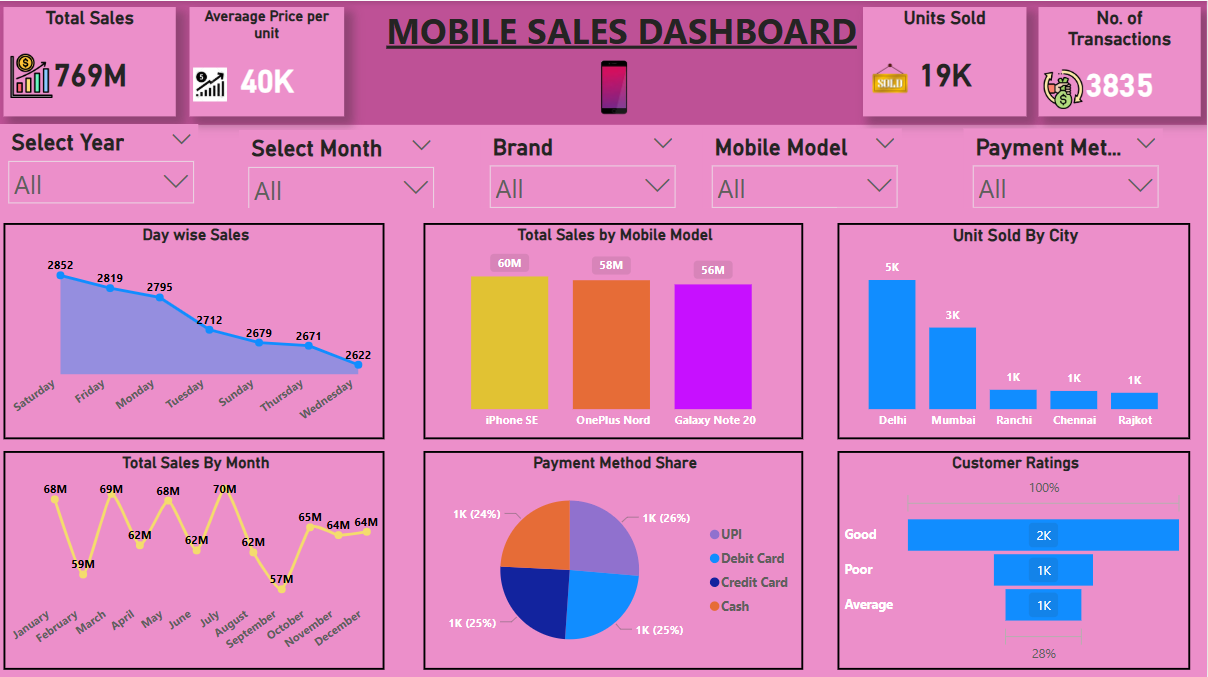

The dashboard page shown, as its layout file describes it:
{"tool":"powerbi","page":{"name":"DASHBOARD","canvas":[1280,720],"ordinal":0},"visuals":[{"type":"textbox","box":[0,0,1280.4,131],"z":0},{"type":"card","title":"Total Sales","fields":{"Values":["Sum(mobile sales data.total_sales)"]},"box":[4,6.4,182.9,116.1],"z":1000},{"type":"card","title":"Units Sold","fields":{"Values":["Sum(mobile sales data.Units Sold)"]},"box":[916.2,6.4,173.4,116.1],"z":2000},{"type":"card","title":"No. of Transactions","fields":{"Values":["CountNonNull(mobile sales data.Transaction ID)"]},"box":[1102.3,6.4,171.8,116.1],"z":3000},{"type":"card","title":"Averaage Price per unit","fields":{"Values":["Avg(mobile sales data.Price Per Unit)"]},"box":[202,6.4,163.8,116.1],"z":4000},{"type":"image","box":[4.8,47.7,58.9,63.6],"z":5000},{"type":"image","box":[916.2,52.5,57.3,58.9],"z":6000},{"type":"image","box":[1102.3,65.2,52.5,57.3],"z":7000},{"type":"image","box":[192.5,65.2,62,46.1],"z":8000},{"type":"slicer","fields":{"Values":["Query1.date.Variation.Date Hierarchy.Year"]},"box":[0,130.4,211.6,93.8],"z":9000},{"type":"slicer","fields":{"Values":["Query1.date.Variation.Date Hierarchy.Month"]},"box":[254.5,136.8,211.6,82.7],"z":10000},{"type":"slicer","fields":{"Values":["mobile sales data.Brand"]},"box":[511.4,135.2,211.6,84.3],"z":11000},{"type":"slicer","fields":{"Values":["mobile sales data.Payment Method"]},"box":[1022.8,135.2,211.6,84.3],"z":12000},{"type":"slicer","fields":{"Values":["mobile sales data.Mobile Model"]},"box":[746,135.2,211.6,84.3],"z":13000},{"type":"lineChart","title":"Day wise Sales","fields":{"Category":["Query1.Day Name"],"Y":["Sum(mobile sales data.Units Sold)"]},"box":[4.8,235.4,404,229],"z":14000},{"type":"columnChart","title":"Total Sales by Mobile Model","fields":{"Category":["mobile sales data.Mobile Model"],"Y":["Sum(mobile sales data.total_sales)"]},"box":[450.1,235.4,402.4,229],"z":15000},{"type":"columnChart","title":"Unit Sold By City","fields":{"Category":["mobile sales data.City"],"Y":["Sum(mobile sales data.Units Sold)"]},"box":[889.2,235.4,373.8,229],"z":16000},{"type":"lineChart","title":"Total Sales By Month","fields":{"Category":["Query1.date.Variation.Date Hierarchy.Month"],"Y":["Sum(mobile sales data.total_sales)"]},"box":[4.8,477.2,404,232.2],"z":17000},{"type":"pieChart","title":"Payment Method Share","fields":{"Category":["mobile sales data.Payment Method"],"Y":["mobile sales data.transactions"]},"box":[450.1,477.2,402.4,232.2],"z":18000},{"type":"funnel","title":"Customer Ratings","fields":{"Category":["mobile sales data.rating_staus"],"Y":["CountNonNull(mobile sales data.Customer Ratings)"]},"box":[889.2,477.2,373.8,232.2],"z":19000},{"type":"image","box":[502.6,57.3,299,68.4],"z":20000}]}

Visuals, with their boxes in screenshot pixels (x1, y1, x2, y2), scaled from the page's 1280x720 canvas onto the 1208x677 screenshot:
textbox: crop(0, 0, 1207, 123)
"Total Sales" card: crop(4, 6, 176, 115)
"Units Sold" card: crop(865, 6, 1028, 115)
"No. of Transactions" card: crop(1040, 6, 1202, 115)
"Averaage Price per unit" card: crop(191, 6, 345, 115)
image: crop(5, 45, 60, 105)
image: crop(865, 49, 919, 105)
image: crop(1040, 61, 1090, 115)
image: crop(182, 61, 240, 105)
slicer - Query1.date.Variation.Date Hierarchy.Year: crop(0, 123, 200, 211)
slicer - Query1.date.Variation.Date Hierarchy.Month: crop(240, 129, 440, 206)
slicer - mobile sales data.Brand: crop(483, 127, 682, 206)
slicer - mobile sales data.Payment Method: crop(965, 127, 1165, 206)
slicer - mobile sales data.Mobile Model: crop(704, 127, 904, 206)
"Day wise Sales" lineChart: crop(5, 221, 386, 437)
"Total Sales by Mobile Model" columnChart: crop(425, 221, 805, 437)
"Unit Sold By City" columnChart: crop(839, 221, 1192, 437)
"Total Sales By Month" lineChart: crop(5, 449, 386, 667)
"Payment Method Share" pieChart: crop(425, 449, 805, 667)
"Customer Ratings" funnel: crop(839, 449, 1192, 667)
image: crop(474, 54, 757, 118)
